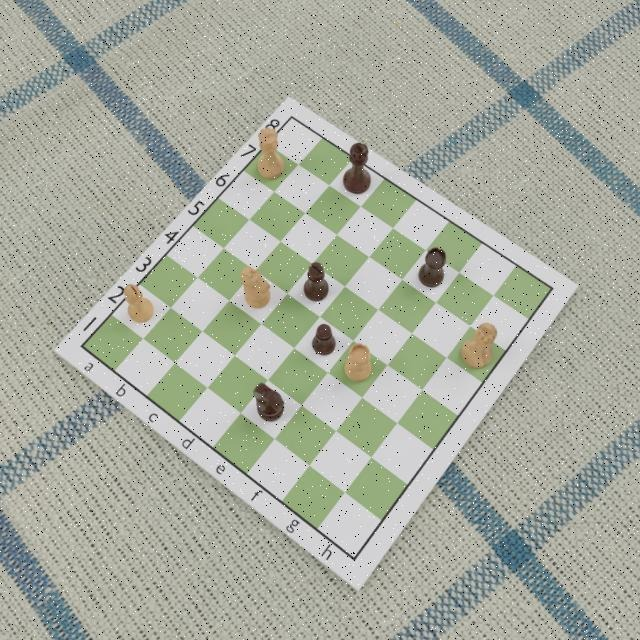black-bishop: (304, 259, 330, 305)
black-king: (341, 140, 371, 196)
black-knight: (251, 381, 284, 423)
black-pawn: (311, 323, 337, 357)
black-rook: (418, 246, 447, 289)
white-bishop: (123, 282, 156, 326)
white-king: (460, 319, 497, 373)
white-knight: (239, 263, 271, 310)
white-queen: (256, 126, 283, 182)
white-rook: (344, 342, 372, 384)
